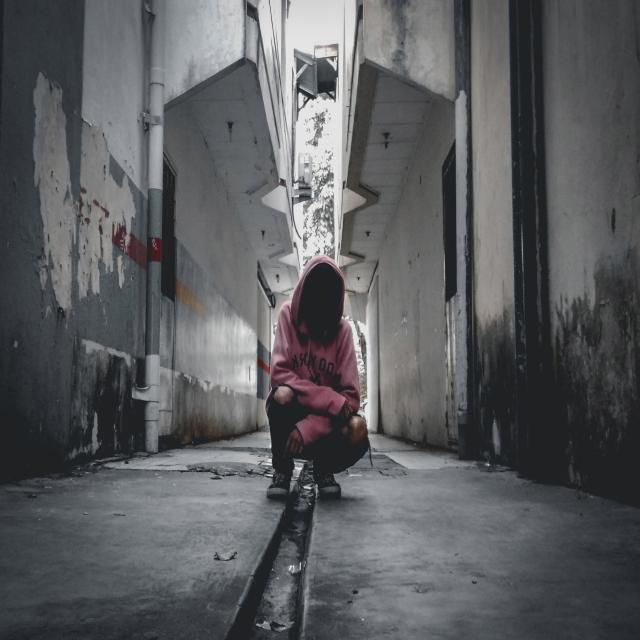adult: (265, 254, 372, 501)
